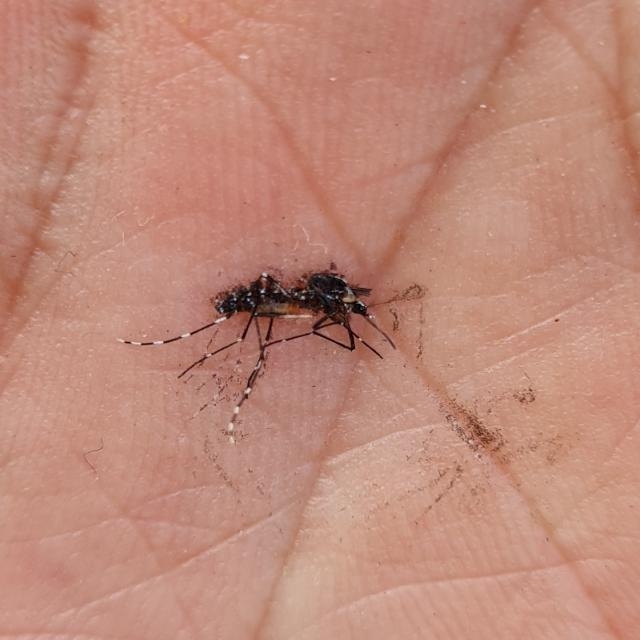albopictus: (115, 250, 425, 450)
